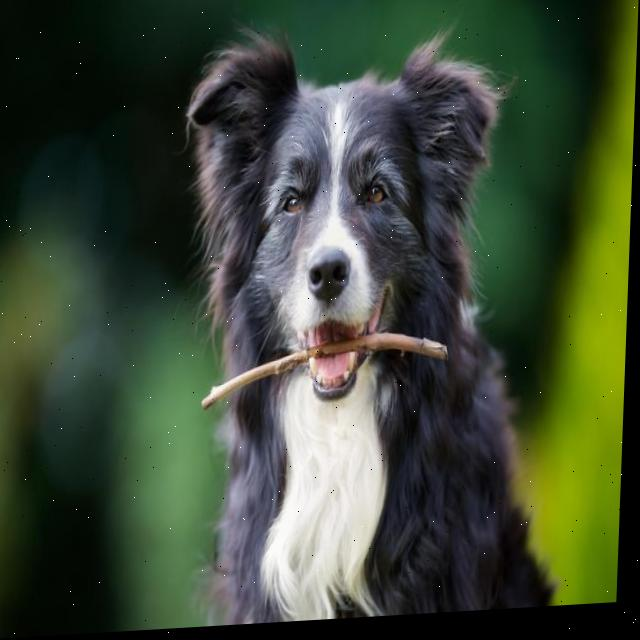BORDER_COLLIE: (153, 3, 600, 632)
